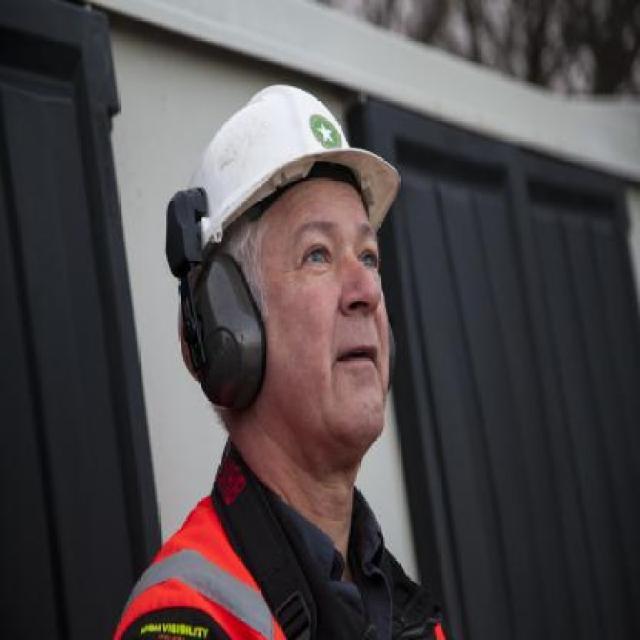earphone: (125, 130, 295, 433)
